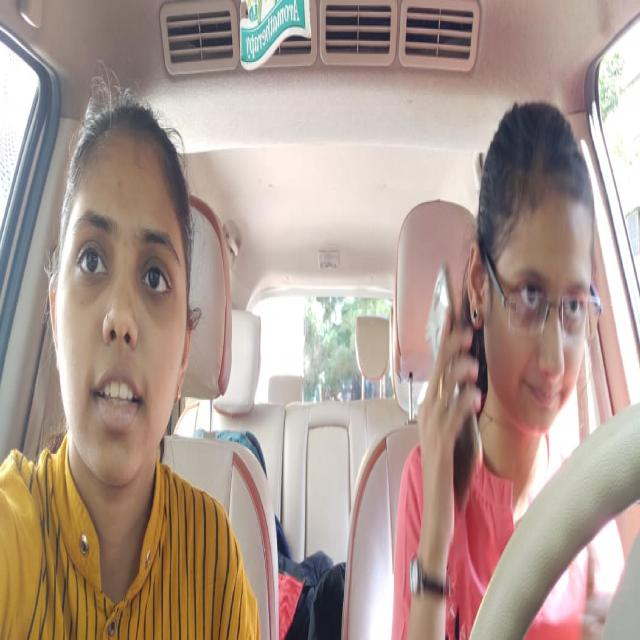mobile: (422, 255, 484, 516)
person: (44, 74, 202, 489), (468, 91, 604, 436)
